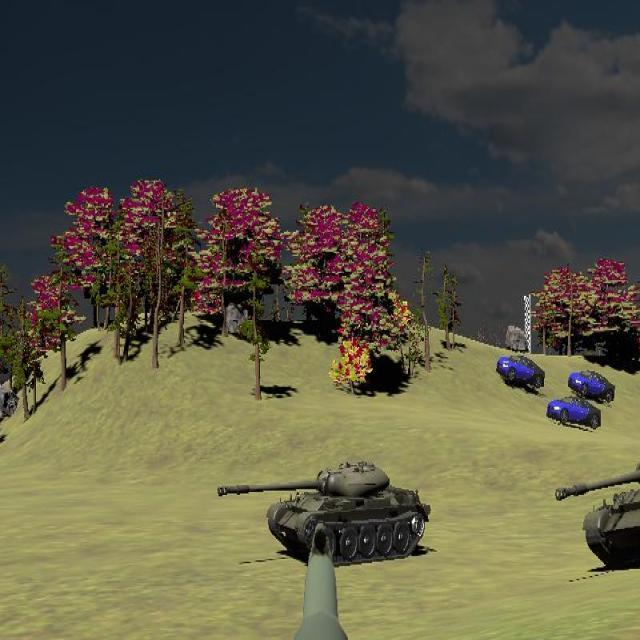Tank: (217, 459, 431, 568), (554, 438, 640, 570)
car: (546, 394, 601, 431), (496, 354, 545, 392), (568, 368, 616, 404)
